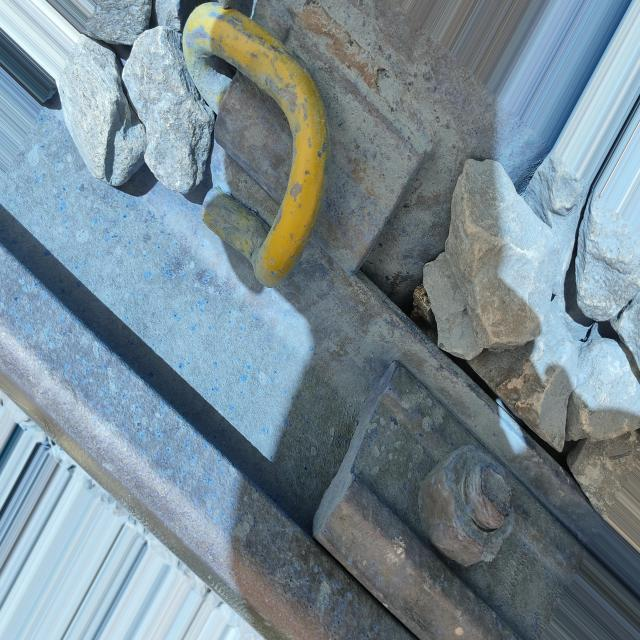Good Fasteners: (183, 0, 534, 292)
